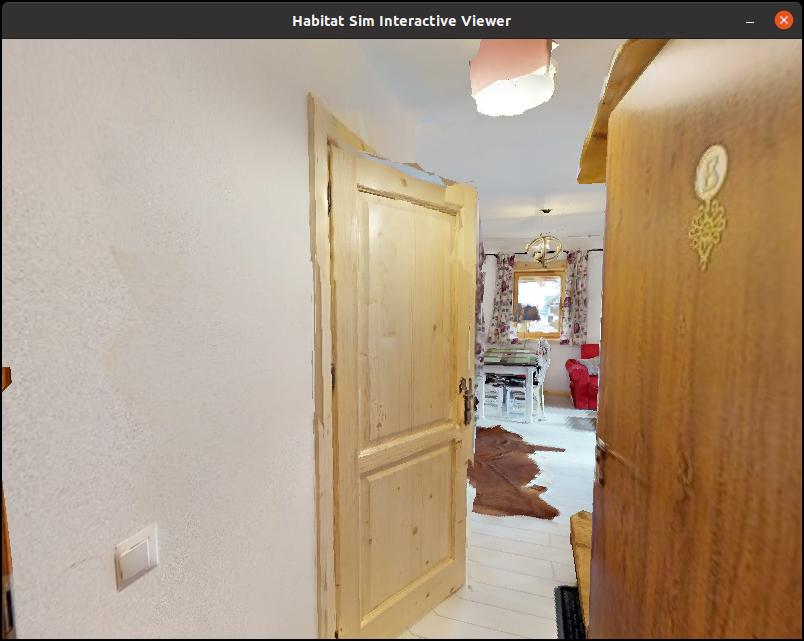door: (325, 165, 477, 641)
